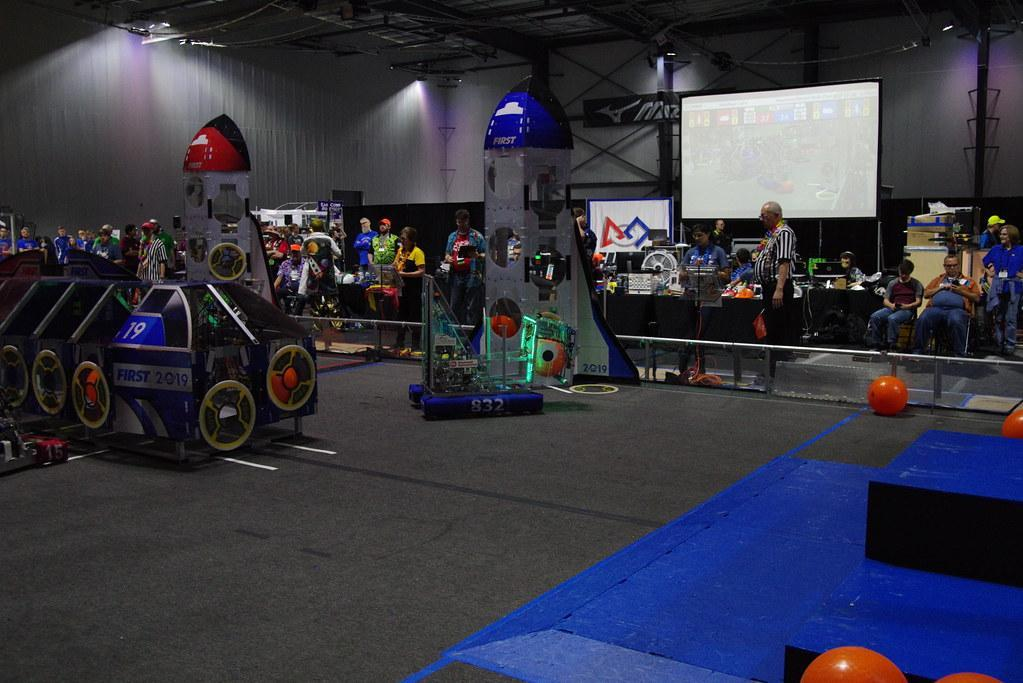robot: (401, 265, 549, 420)
